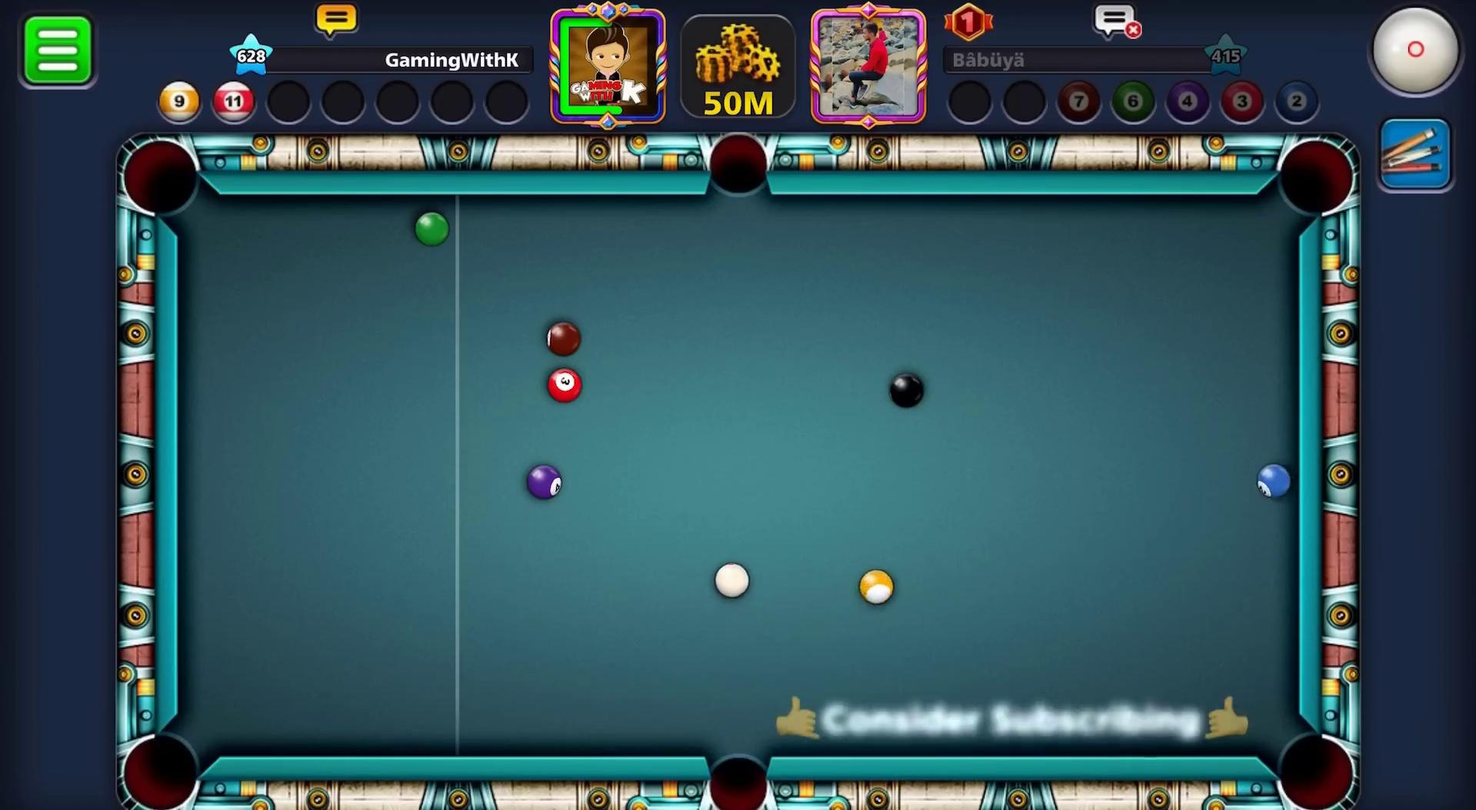Ball: (531, 360, 589, 409), (518, 456, 571, 509), (531, 316, 587, 365), (882, 369, 930, 415), (1255, 455, 1292, 502), (406, 211, 448, 248), (859, 568, 895, 605)
Hole: (102, 709, 223, 809), (105, 124, 209, 228), (1264, 127, 1364, 228), (1258, 715, 1365, 809), (701, 121, 790, 218), (686, 730, 783, 809)
Play_Area: (178, 195, 1299, 752)
Spin: (1362, 0, 1475, 109)
White: (707, 558, 755, 602)
